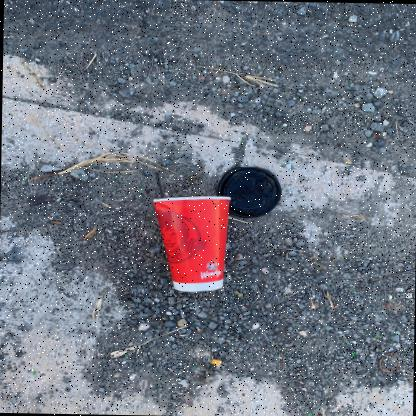Broken glass: (216, 338, 224, 343), (194, 306, 199, 311), (31, 370, 36, 375), (211, 348, 217, 352), (352, 351, 355, 358), (307, 412, 312, 416), (344, 255, 349, 259), (342, 339, 347, 342), (301, 316, 306, 319), (295, 323, 300, 326), (390, 332, 395, 335), (351, 290, 356, 292), (363, 330, 366, 333), (377, 334, 379, 336)
Paper cup: (153, 196, 230, 292)
Plastic lid: (217, 166, 281, 218)
Unlabeled litter: (202, 356, 221, 366)
